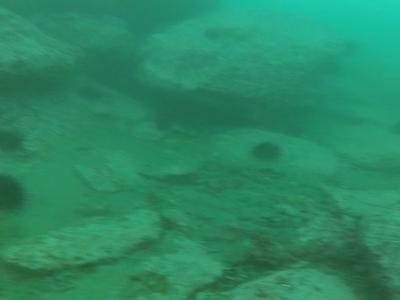urchin: (2, 171, 23, 216), (254, 142, 281, 162)
